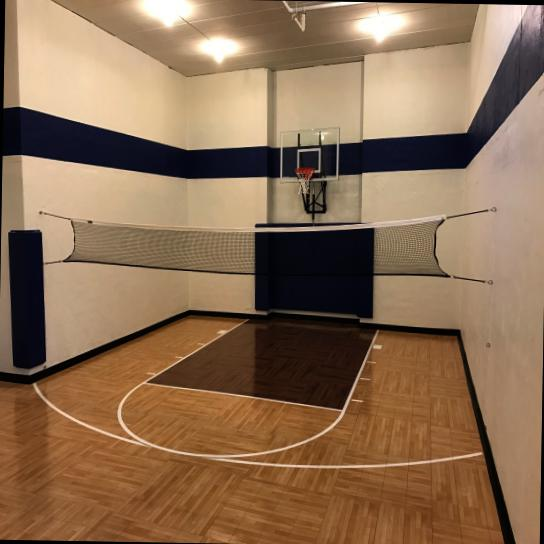basketball-hoop: (292, 164, 315, 195)
